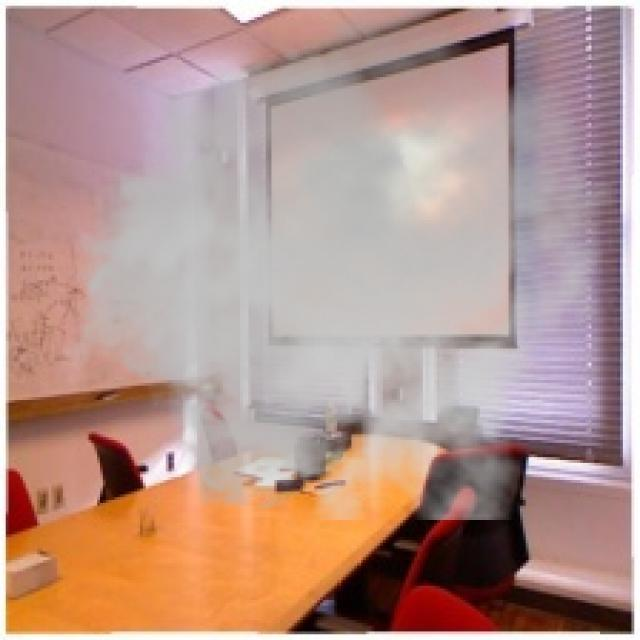Smoke: (60, 6, 617, 520)
